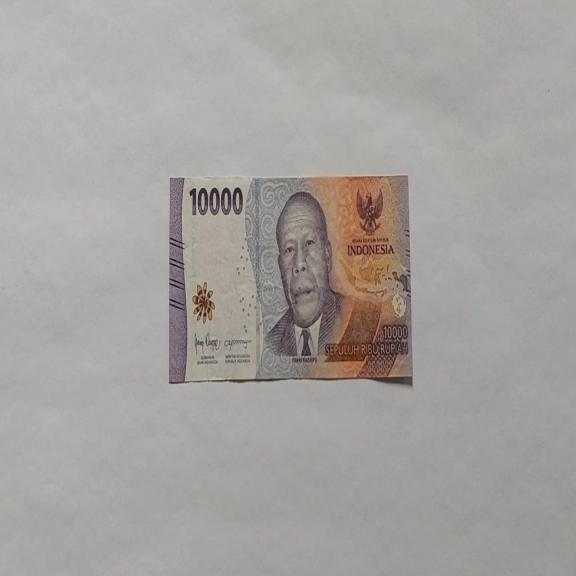Kertas: (168, 173, 413, 385), (188, 184, 244, 218)
